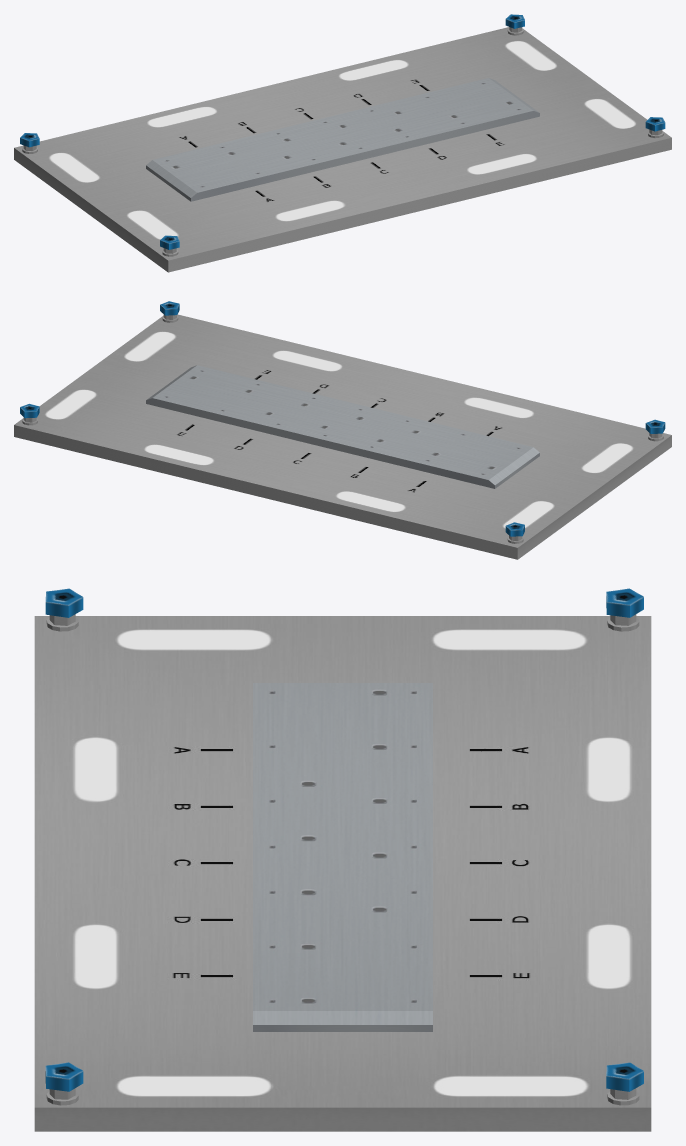
The model's file is Stanchion_Baseplate_Collision.dae.
3 views of the same model, one above another, from view 1: azimuth 30°, elevation 25°; view 2: azimuth 150°, elevation 25°; view 3: azimuth 270°, elevation 25° (orthographic). The views are drawn at different scales.
Visible parts, largest first — view 1: node; view 2: node; view 3: node.
Boxes of the visible parts, left/top/right/bottom form: node: left=14, top=14, right=671, bottom=272; node: left=14, top=301, right=671, bottom=559; node: left=34, top=588, right=651, bottom=1131.
Bounding box in the file's own units: 1.05 × 0.0518 × 0.5588.
4 materials, 4 textured.
